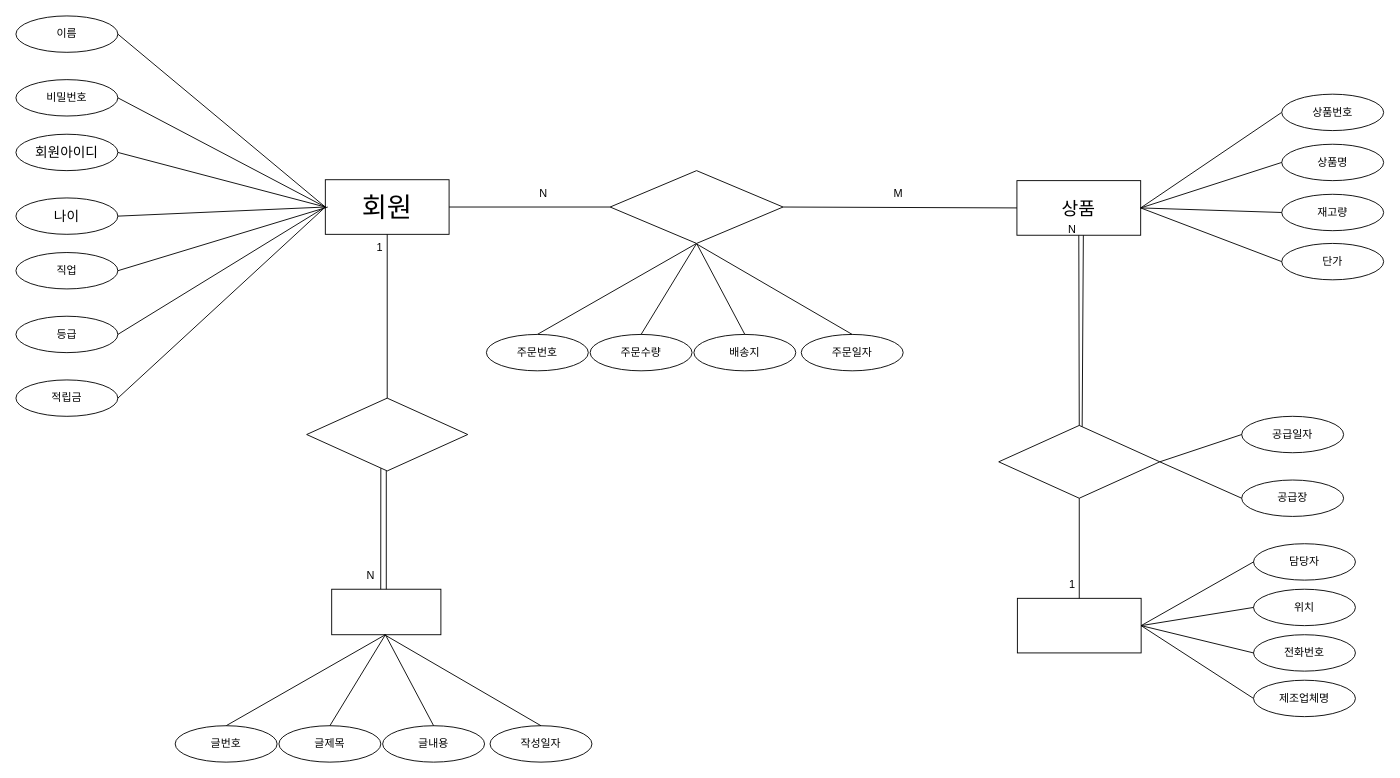
This 1400x778 diagram has some shape labels left out. Each missing label, with the centre of its shape:
"게시글" goes at point (386, 611).
"공급" goes at point (1079, 461).
"작성" goes at point (387, 434).
"제조업체" goes at point (1078, 625).
"주문" goes at point (696, 206).
